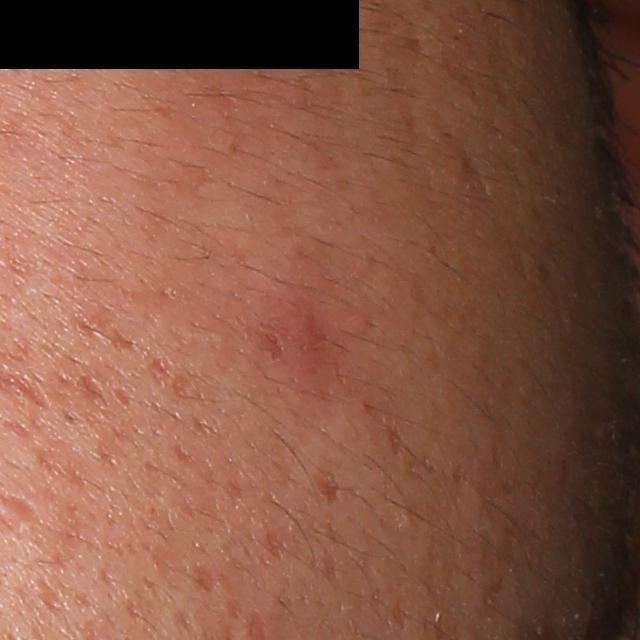atrophic_scar: (2, 495, 41, 526)
